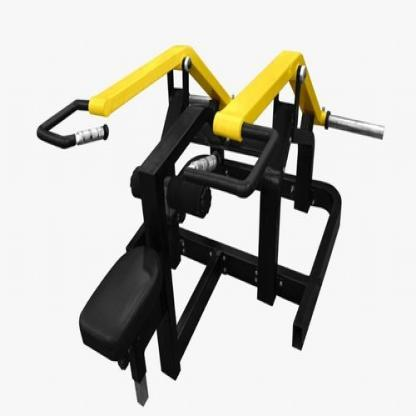seated dip machine: (37, 43, 386, 406)
